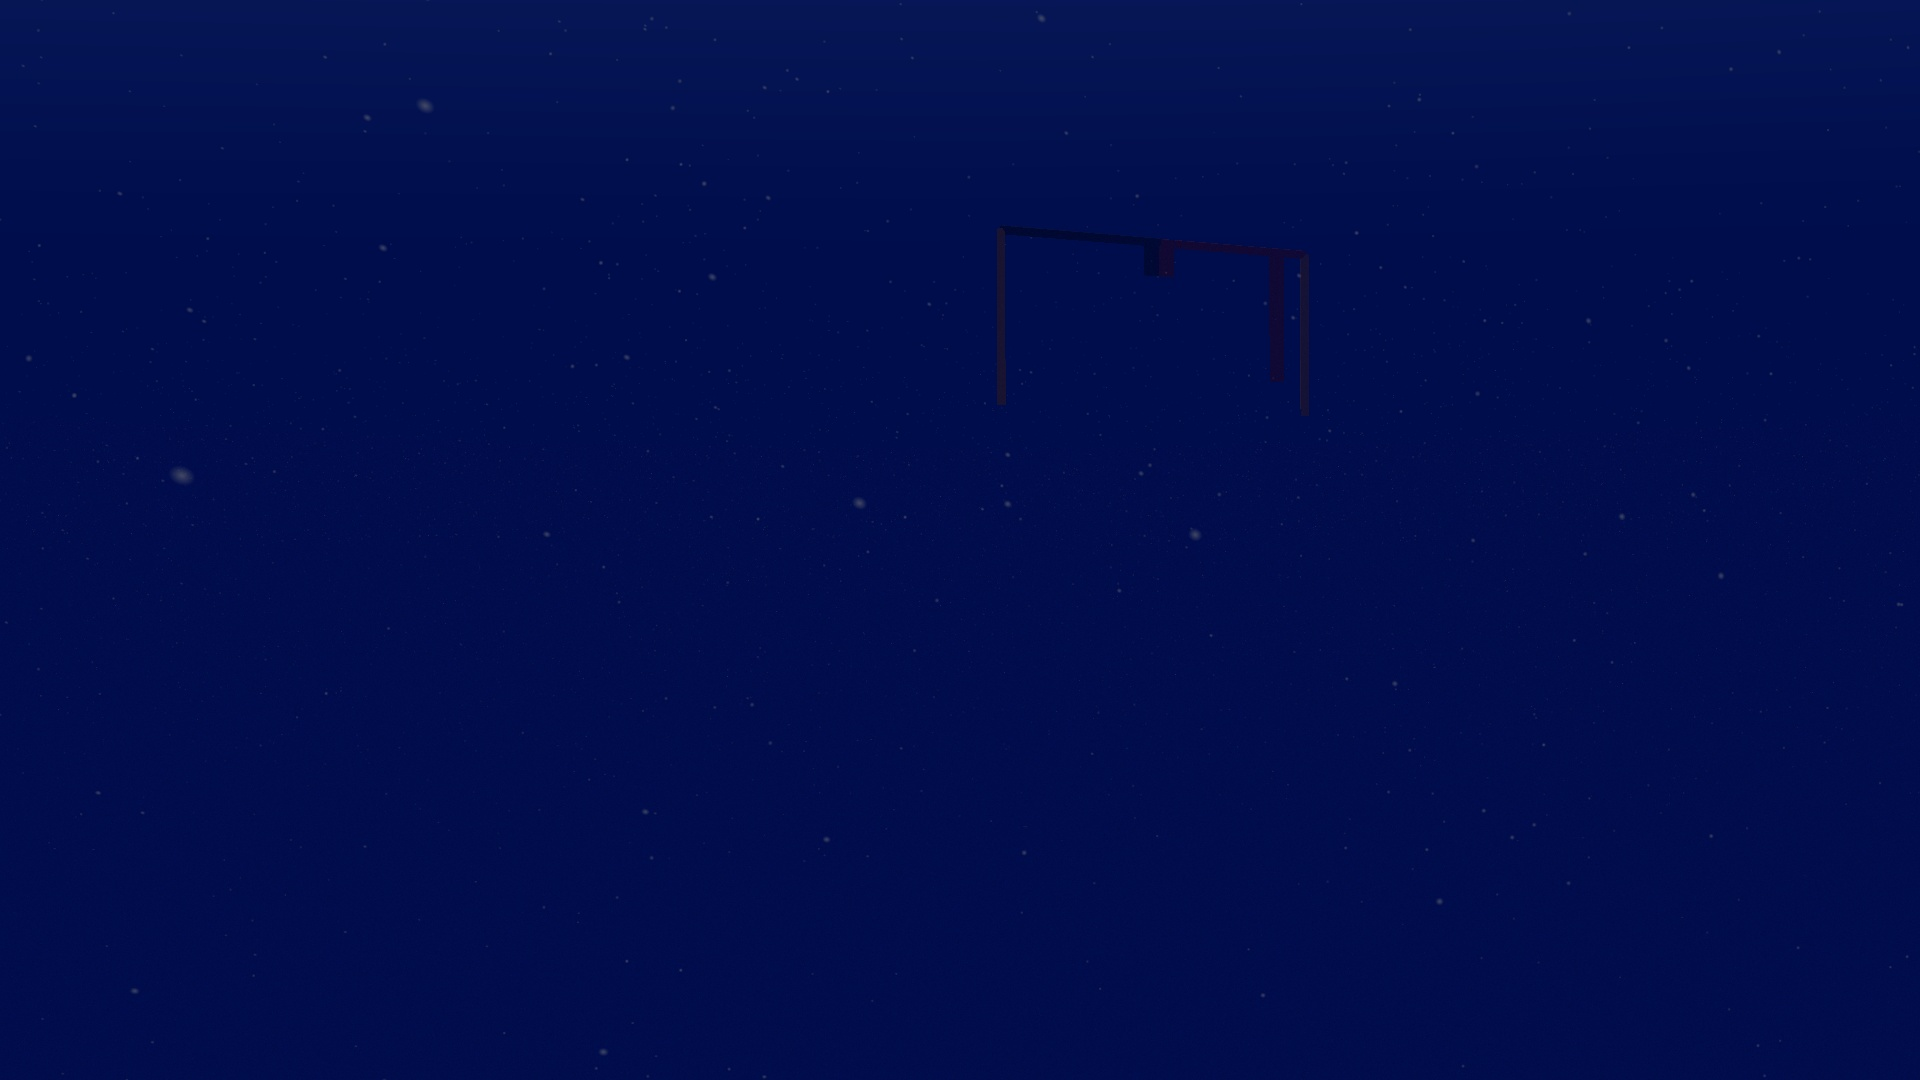Gate: (993, 220, 1323, 417)
